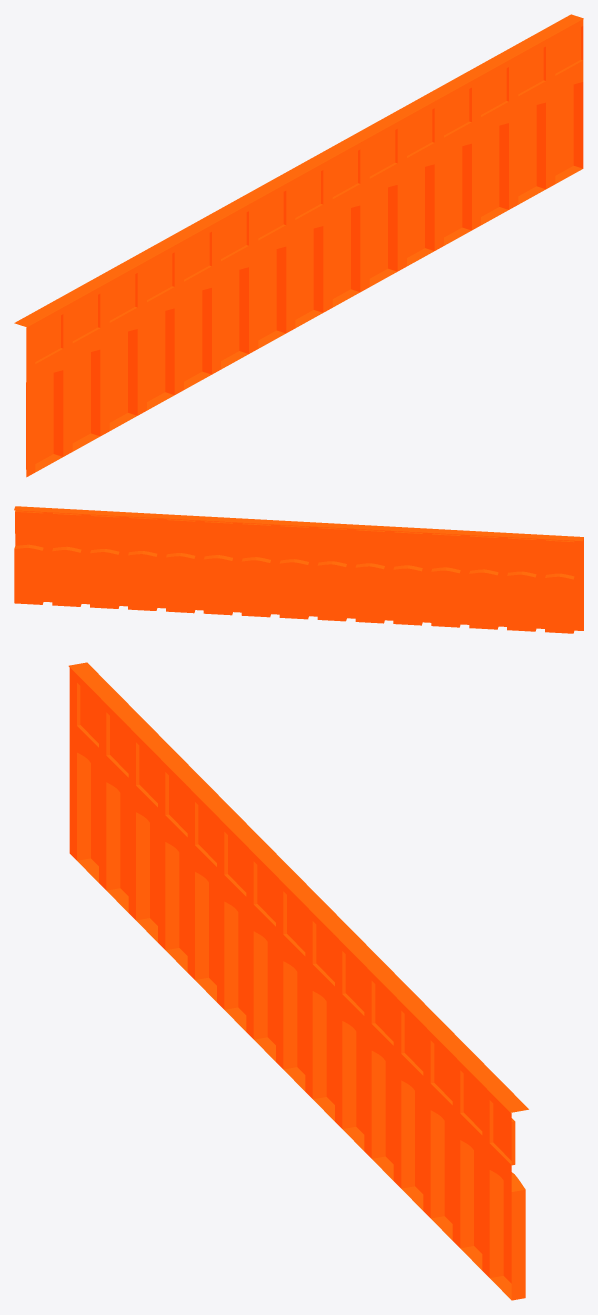
File: BakerStreet-Wall01.FBX
The picture shows the model from 3 angles, top to bottom: view 1: azimuth 30°, elevation 25°; view 2: azimuth 150°, elevation 25°; view 3: azimuth 270°, elevation 25°; orthographic projection. The views are drawn at different scales.
Parts seen in each view (by area): view 1: BakerStreet-Wall01; view 2: BakerStreet-Wall01; view 3: BakerStreet-Wall01.
Boxes of the visible parts, x1,y1,x2,y2 form: BakerStreet-Wall01: [14, 14, 583, 477]; BakerStreet-Wall01: [14, 506, 583, 633]; BakerStreet-Wall01: [68, 662, 528, 1300].
Size of the model in its own units: 2196 by 427 by 950.
